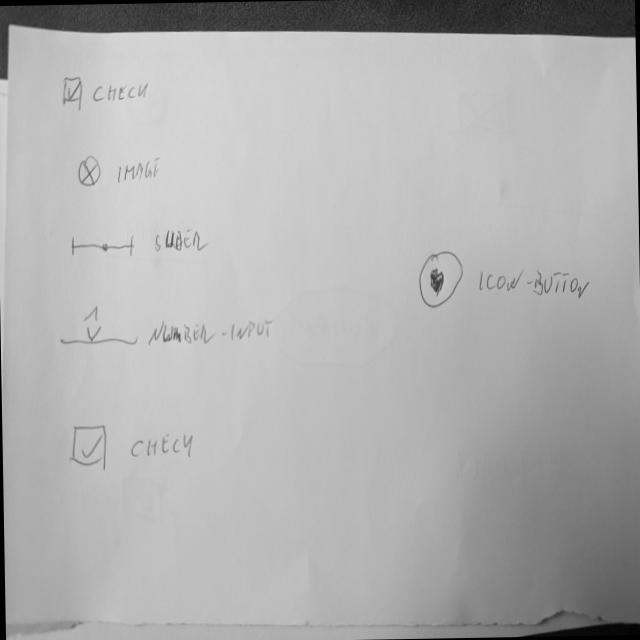checkbox: (69, 421, 197, 469), (62, 74, 152, 109)
icon-button: (419, 250, 466, 309)
image: (77, 153, 103, 190)
slider: (69, 234, 141, 260)
